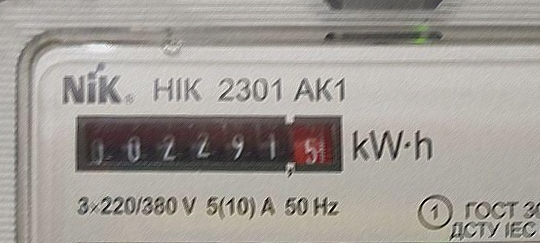0: (86, 134, 105, 164), (124, 133, 141, 163)
1: (263, 129, 278, 163)
2: (159, 132, 176, 162), (194, 129, 209, 159)
5: (302, 135, 318, 165)
9: (228, 130, 245, 161)
screen: (69, 103, 348, 186)
